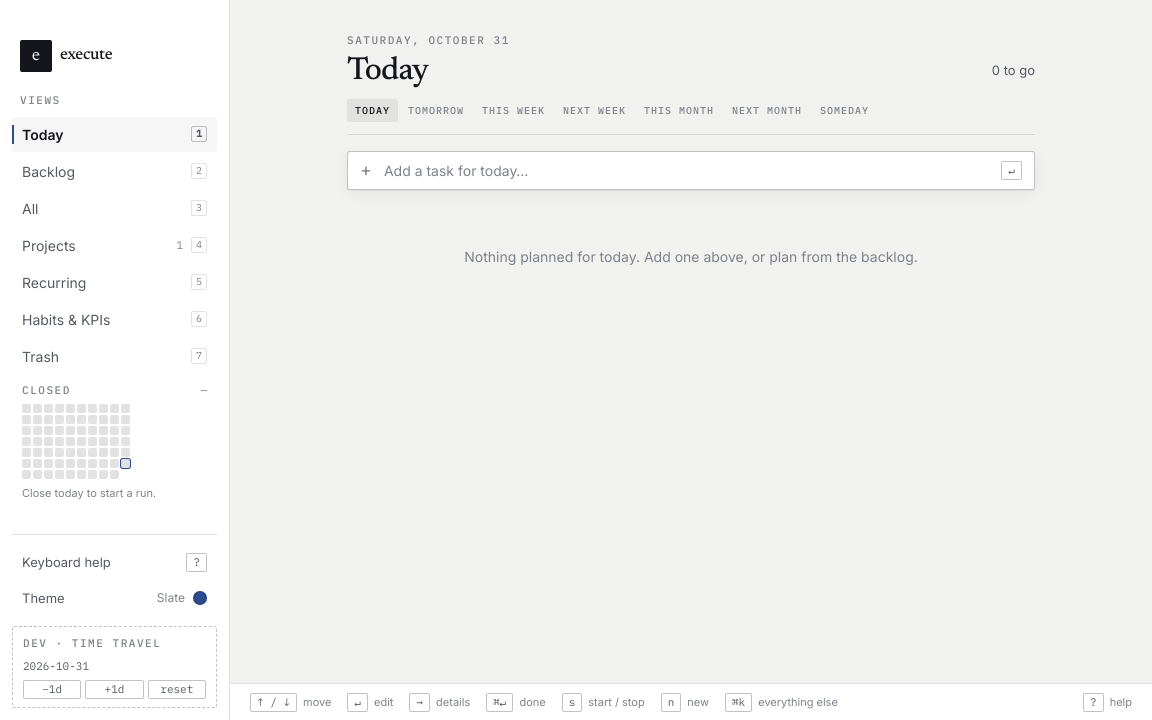
App integration › captures a task in Today and completes it
Type "write the readme" into the field with placeholder "Add a task for today…" at (687, 170), box top-left (384, 160), bottom-right (989, 180)
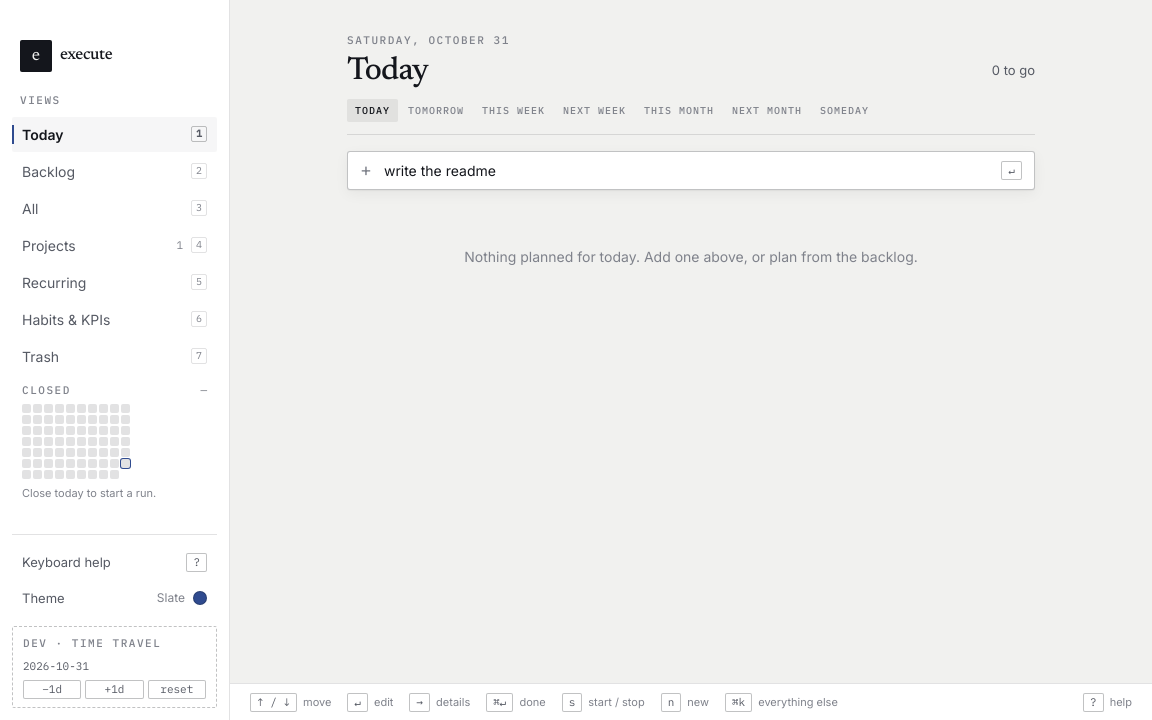
Press Enter in the field with placeholder "Add a task for today…", box top-left (384, 160), bottom-right (989, 180)
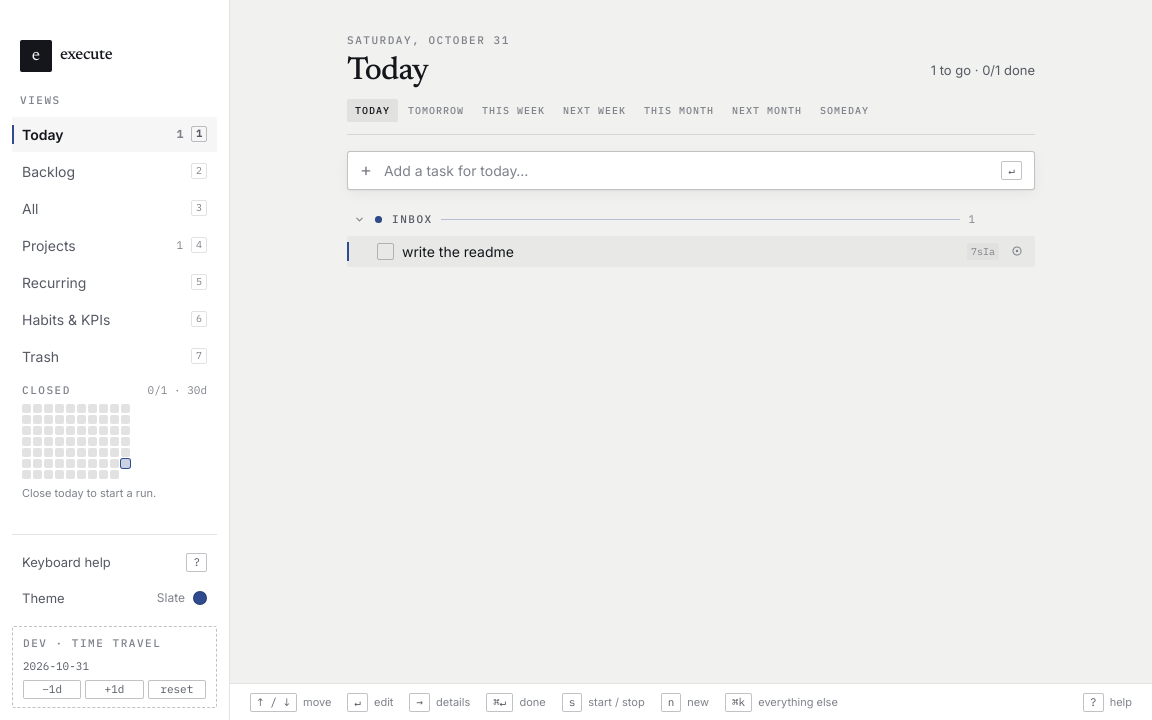
Result: the text "write the readme" is shown at top-left (402, 242), bottom-right (514, 260)
Click the button named "Mark complete" at (386, 251), box top-left (377, 242), bottom-right (394, 260)
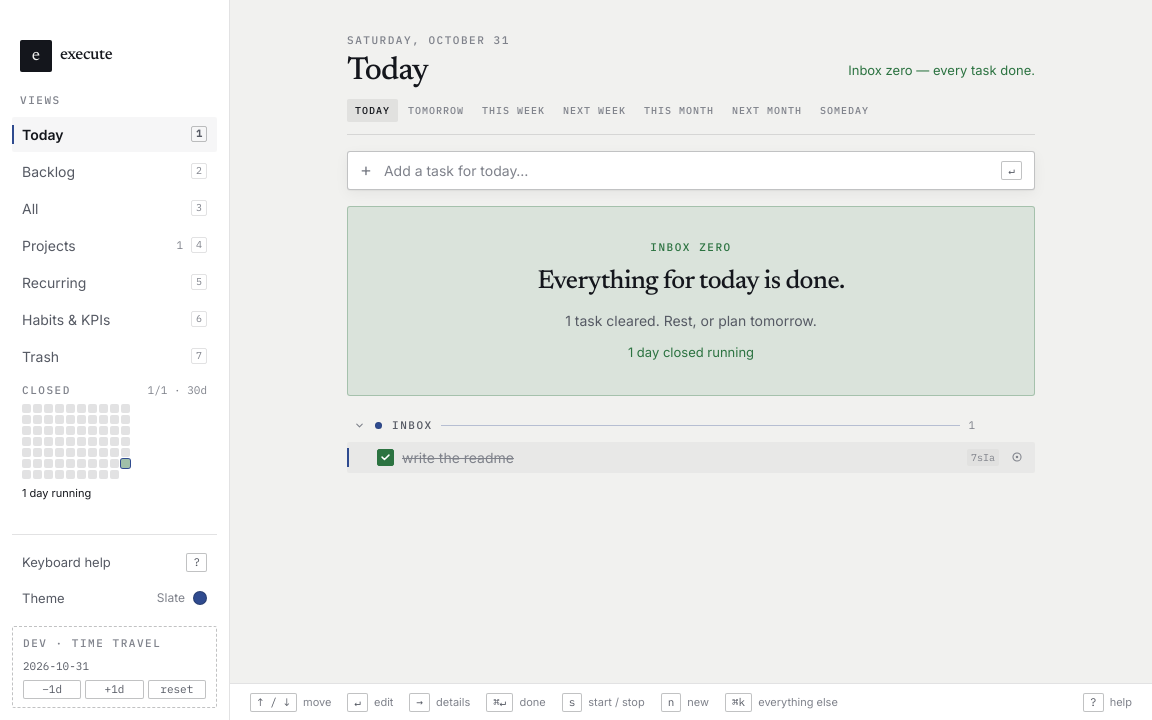
Result: the button named "Mark incomplete" is shown at top-left (377, 448), bottom-right (394, 466)
